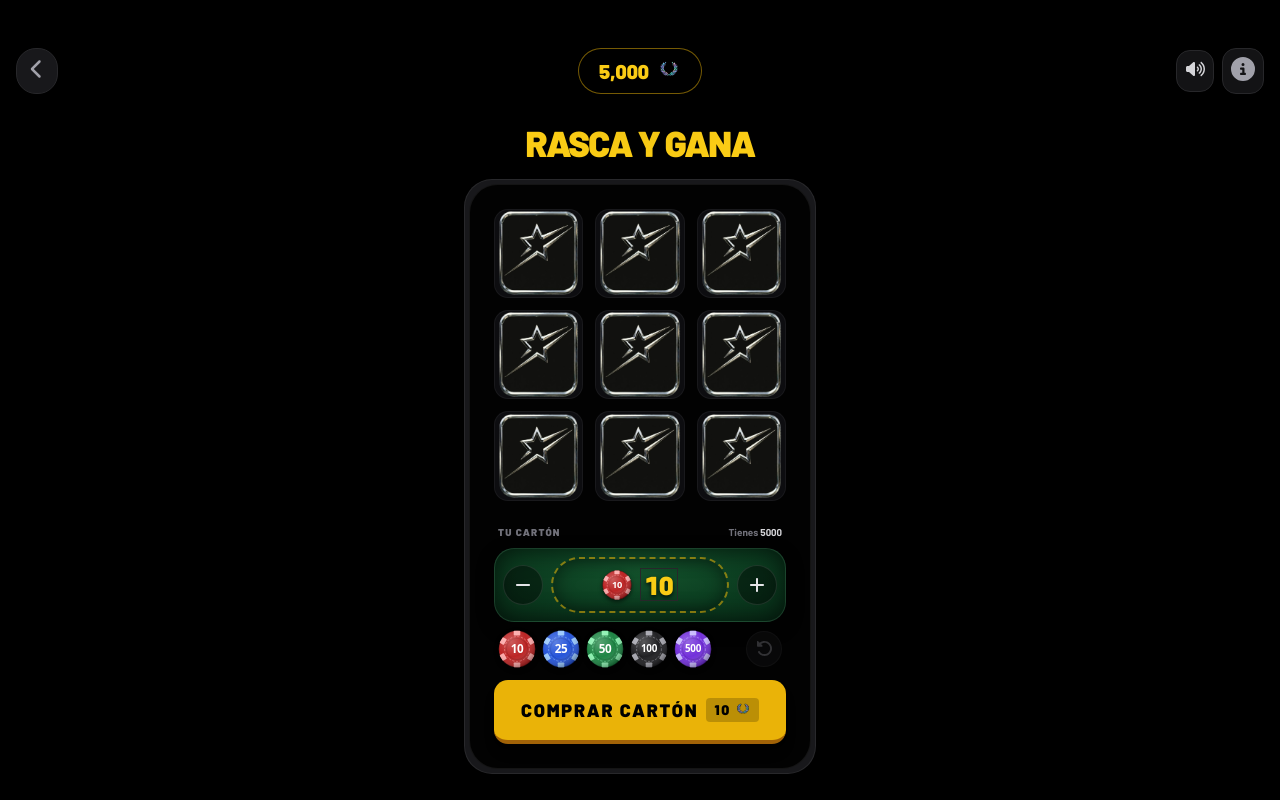
Test: ScratchGame › LA TABLA DE PREMIOS ENSEÑA MULTIPLOS, NO CANTIDADES INVENTADAS
Click the button named "tabla de premios".
click(1243, 71)  # box [1222,48,1264,94]
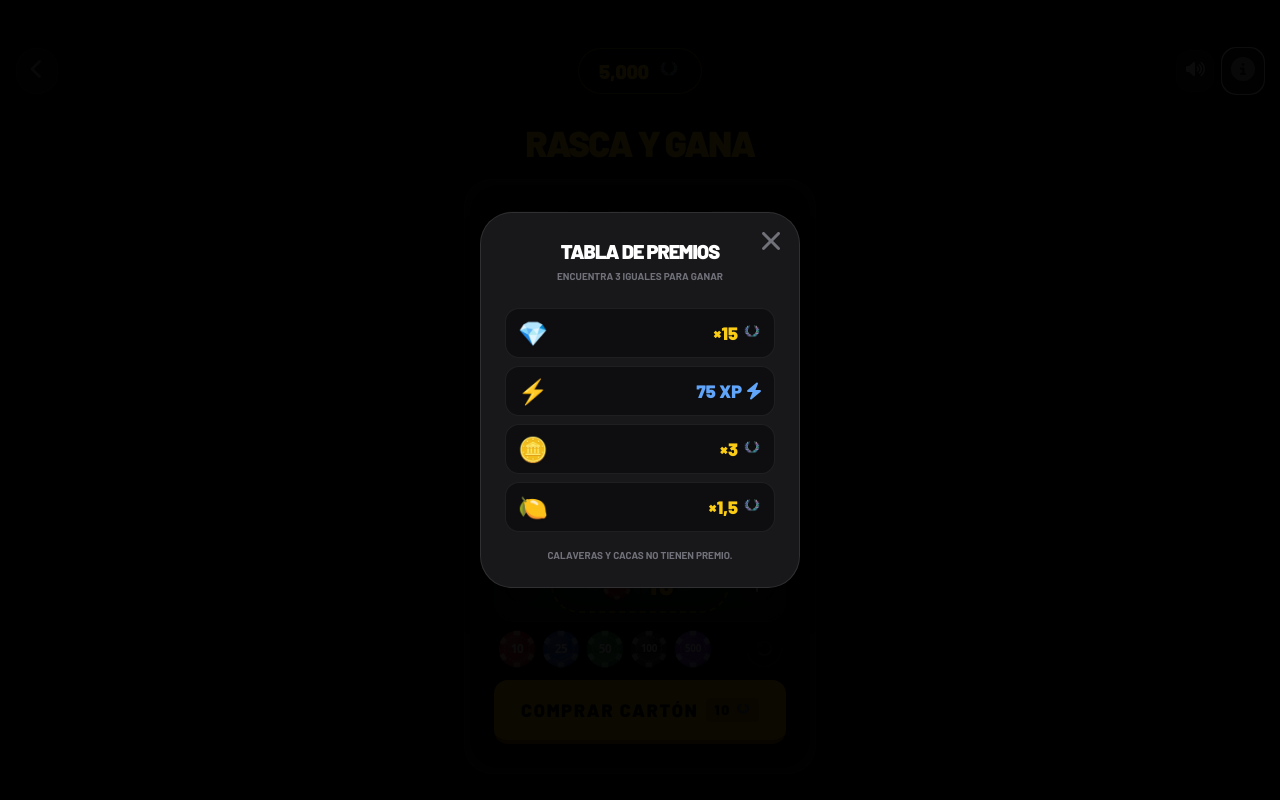
expect the text "×15" is shown: met, box [713,319,738,347]
expect the text "×3" is shown: met, box [720,435,738,463]
expect the text "×1,5" is shown: met, box [708,493,738,521]
